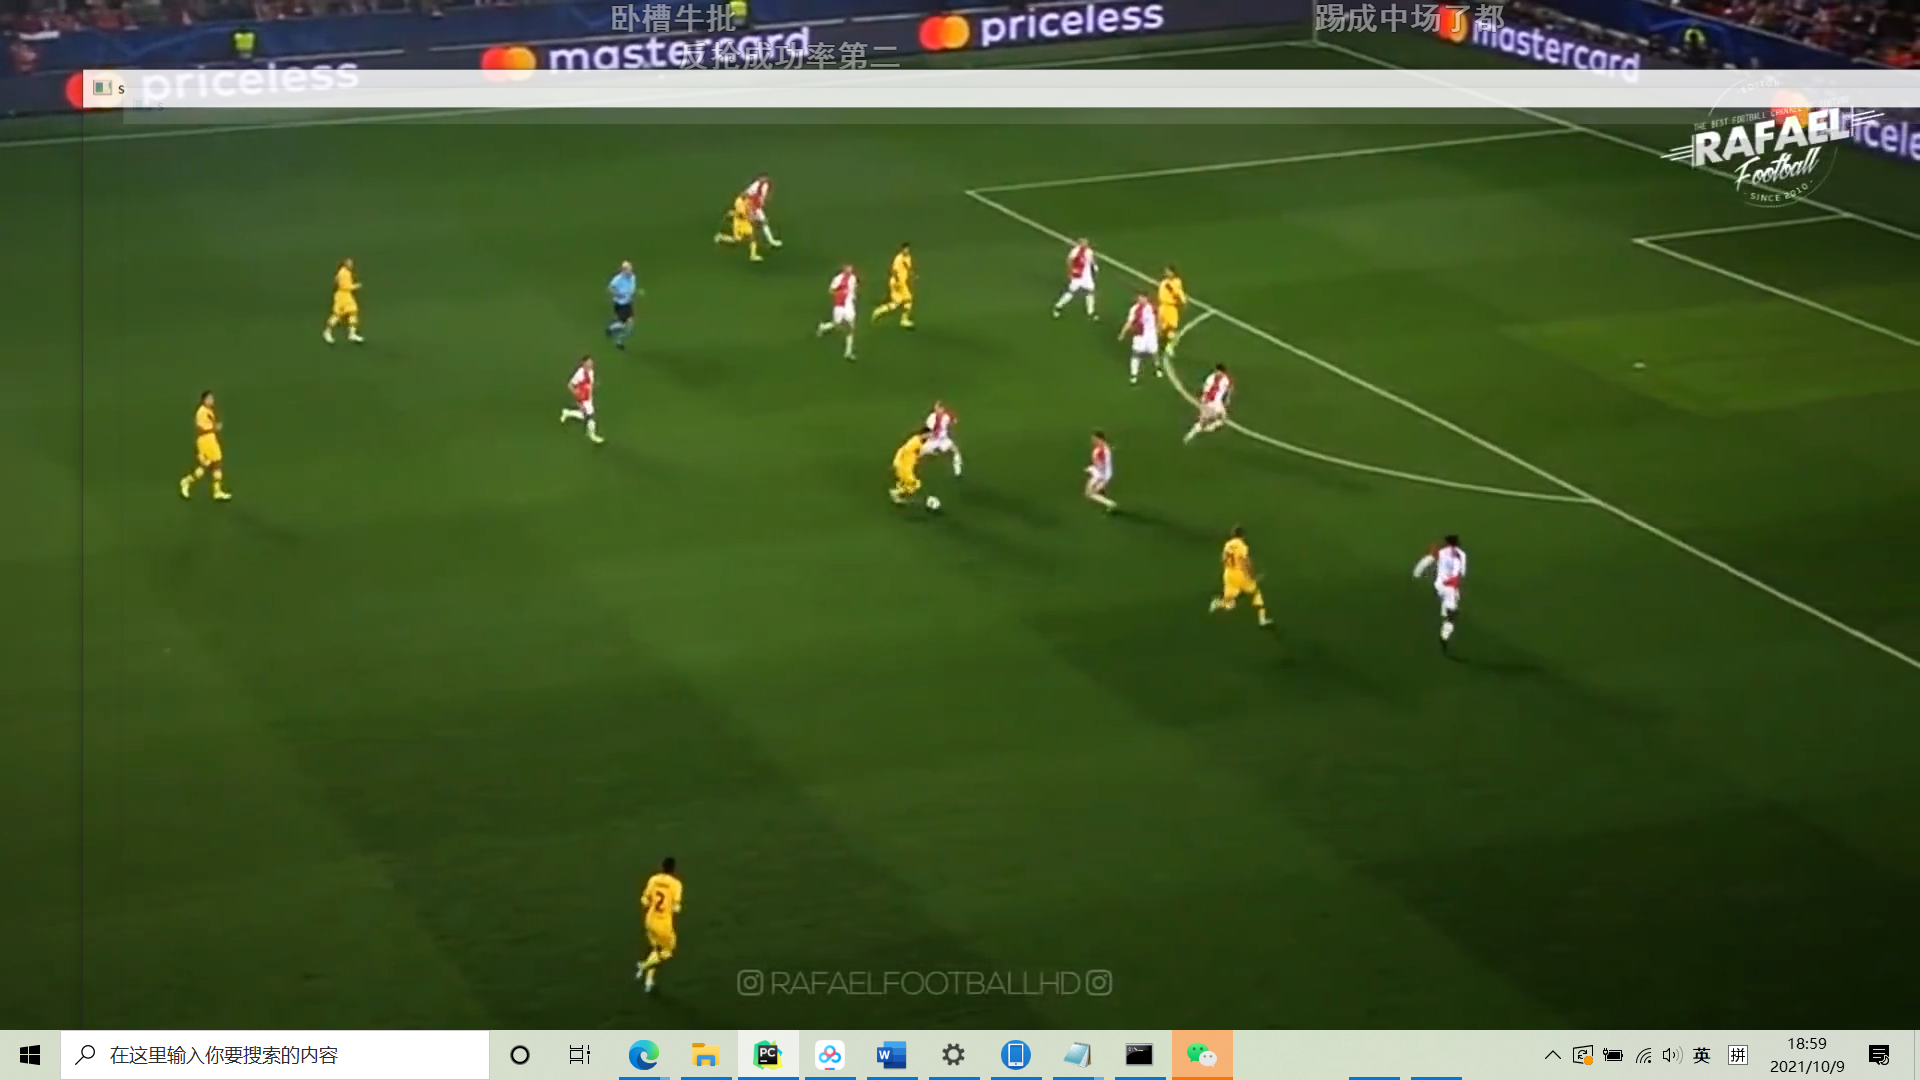ft: (923, 495, 943, 516)
